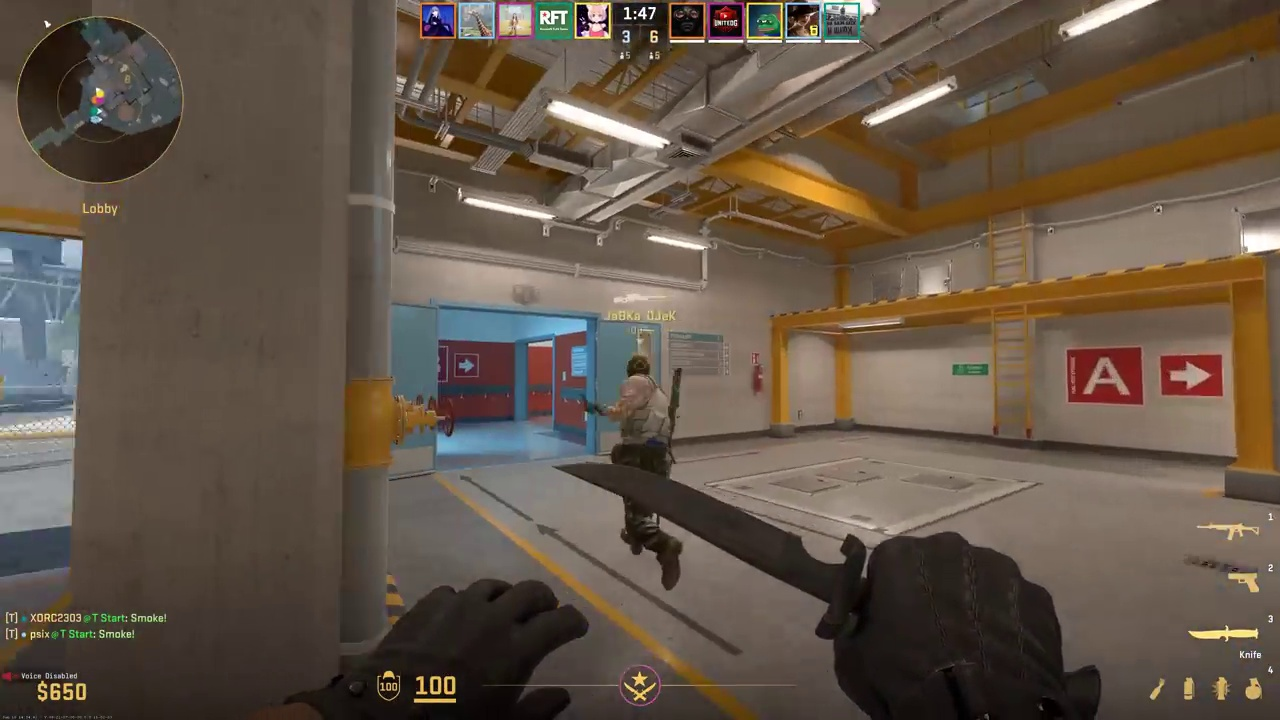Terrorist: (608, 355, 683, 588)
